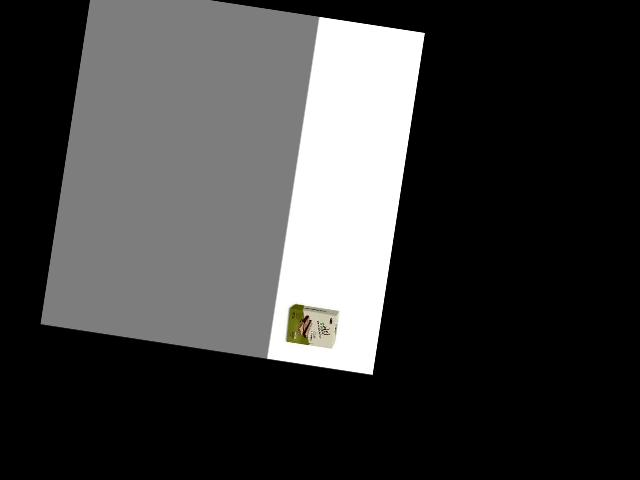chocolate: (283, 300, 340, 350)
